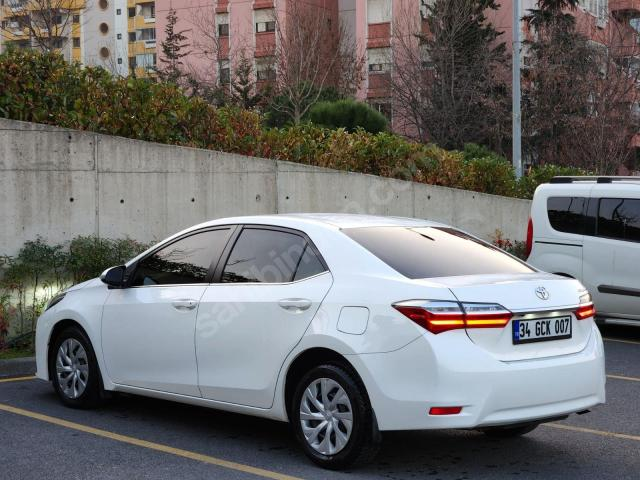plaka: (513, 316, 571, 344)
